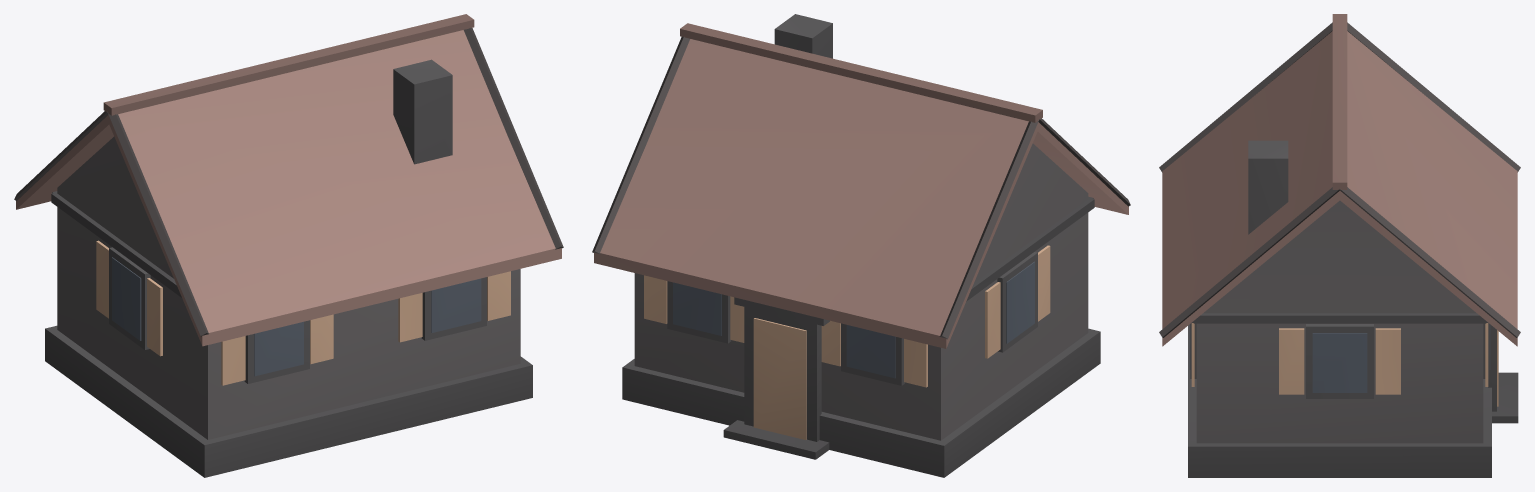
File: cottage_cinder.gltf
3 views of the same model, side by side, from view 1: azimuth 30°, elevation 25°; view 2: azimuth 150°, elevation 25°; view 3: azimuth 270°, elevation 25° (orthographic). The views are drawn at different scales.
Parts seen in each view (by area): view 1: Body; view 2: Body; view 3: Body.
Part boxes in pixels (box(x1,y1,x2,y2)): Body: box(14, 14, 563, 477); Body: box(592, 14, 1130, 477); Body: box(1159, 14, 1520, 477).
Size of the model in its own units: 6.97 by 5.84 by 6.32.
